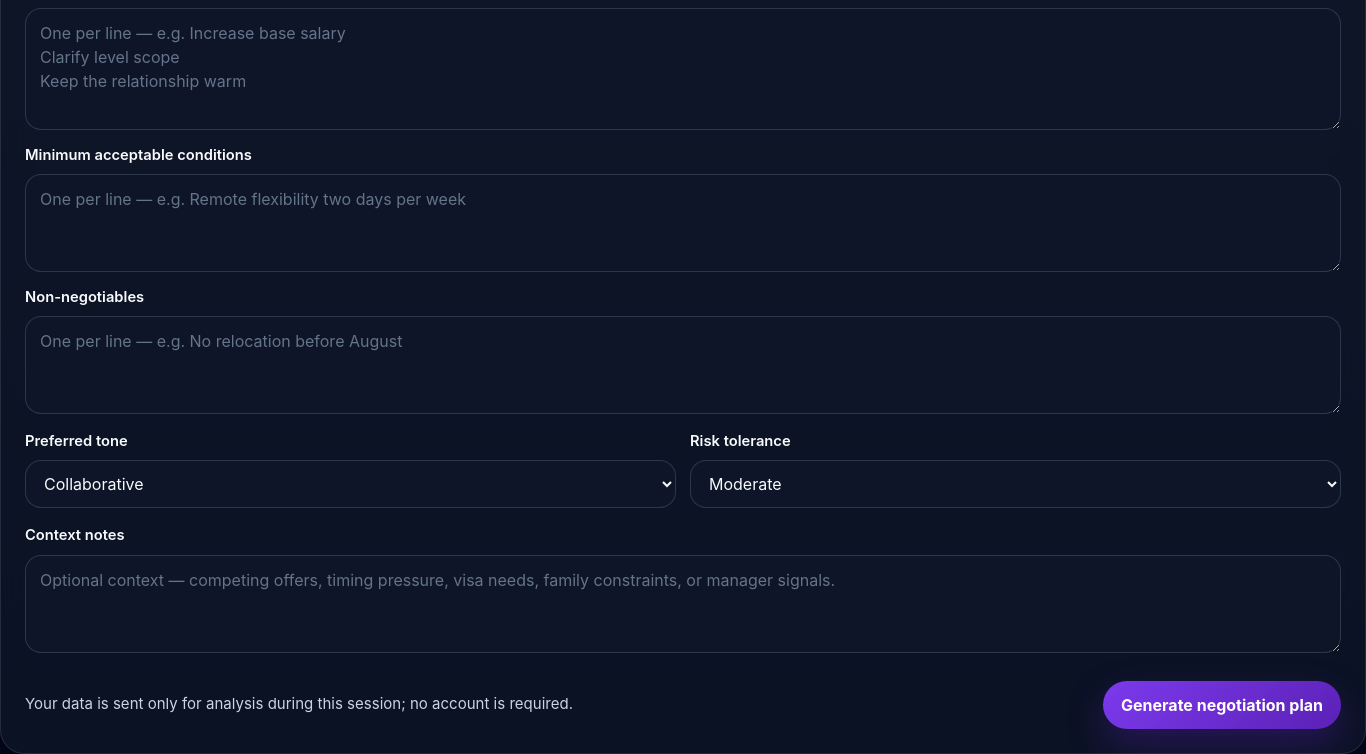
Scenario: OfferIntakeForm › shows required-field validation
(page scrolled)
Click the button "Generate negotiation plan" at (1222, 704), box [1103,680,1341,728]
(page scrolled)
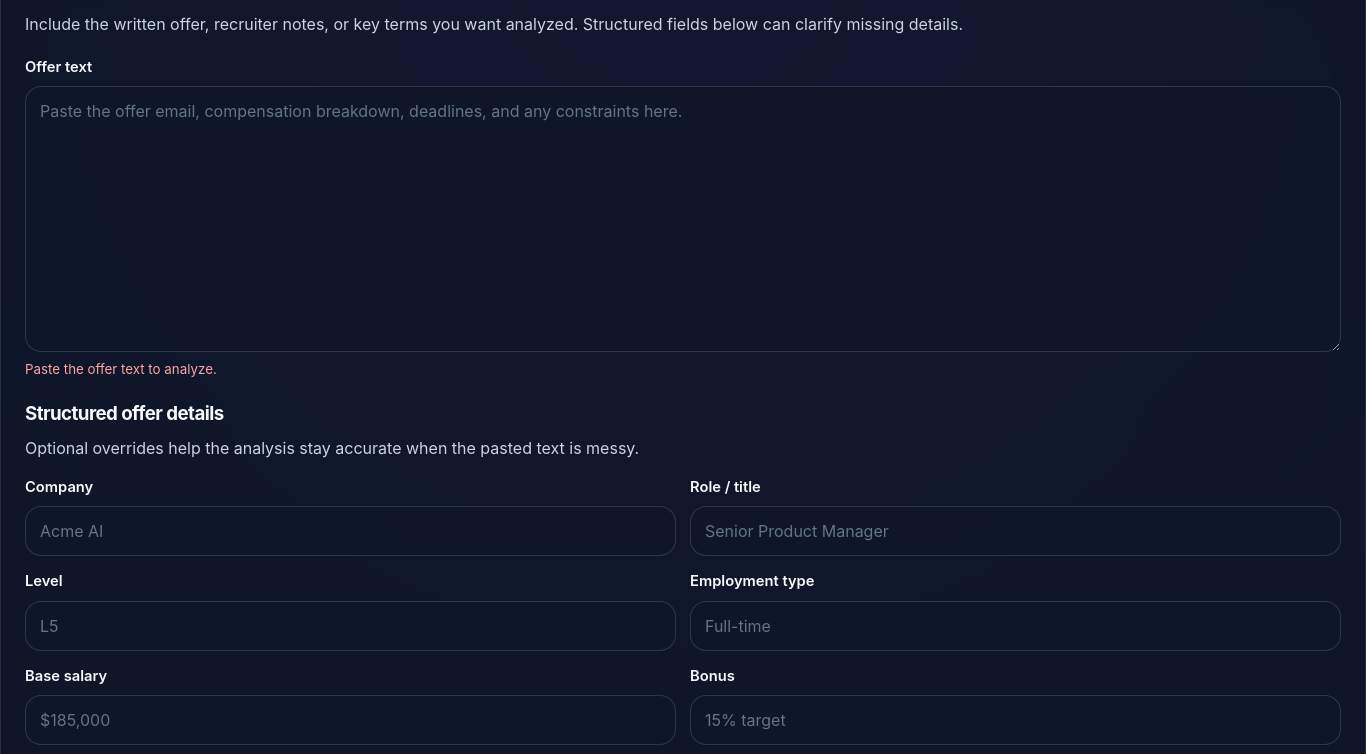
Now the text "Paste the offer text to analyze." is shown, box [25,361,217,377]
